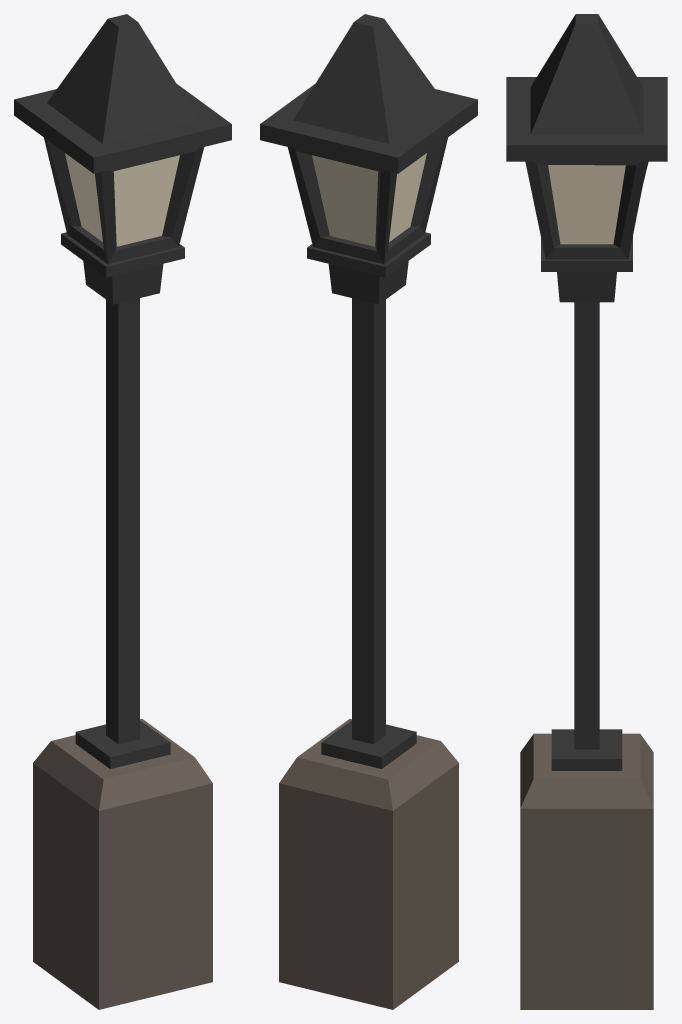
Rendered from steampunk_lantern.fbx.
3 views of the same model, side by side, from view 1: azimuth 30°, elevation 25°; view 2: azimuth 150°, elevation 25°; view 3: azimuth 270°, elevation 25° (orthographic).
Parts seen in each view (by area): view 1: Cube, Cube.003; view 2: Cube, Cube.003; view 3: Cube, Cube.003.
Part boxes in pixels (x1,y1,x2,y2): Cube: [14, 14, 231, 1009]; Cube.003: [65, 153, 179, 246]; Cube: [260, 14, 477, 1009]; Cube.003: [312, 153, 426, 246]; Cube: [506, 14, 667, 1009]; Cube.003: [548, 165, 625, 244].
Bounding box in the file's own units: 0.4358 × 2.87 × 0.4358.
